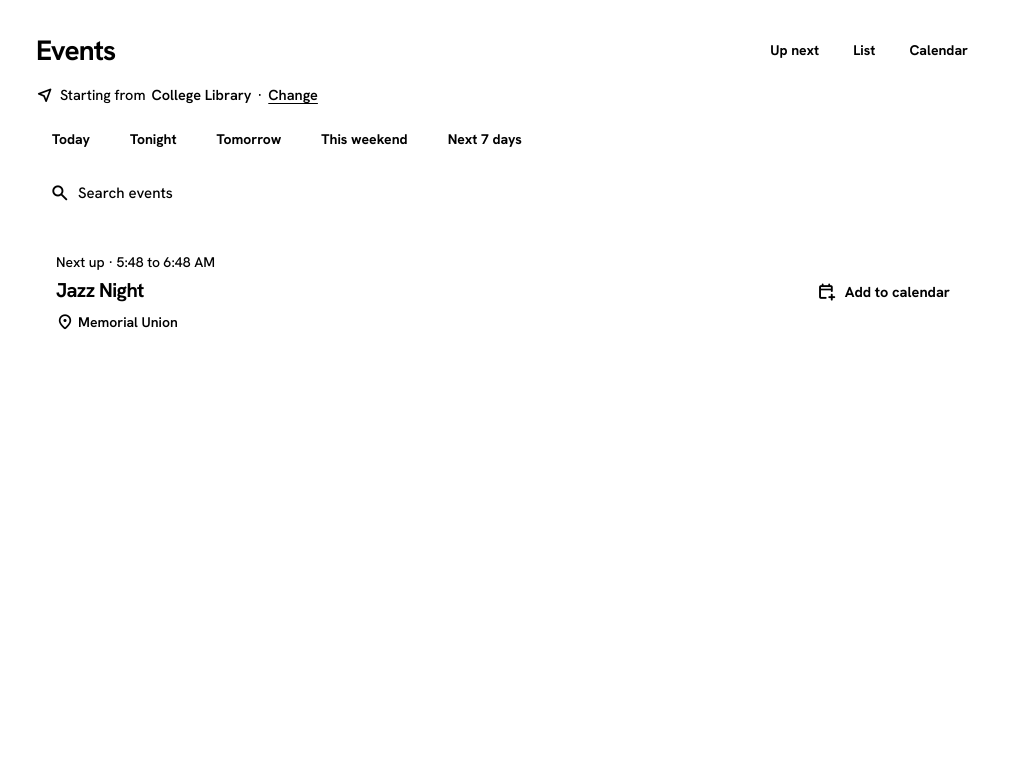
Test: EventsPage › a title opens the event pop-up over the page (?event=), and Close removes it
Click the button "Jazz Night": (100, 290) [56,279,144,302]
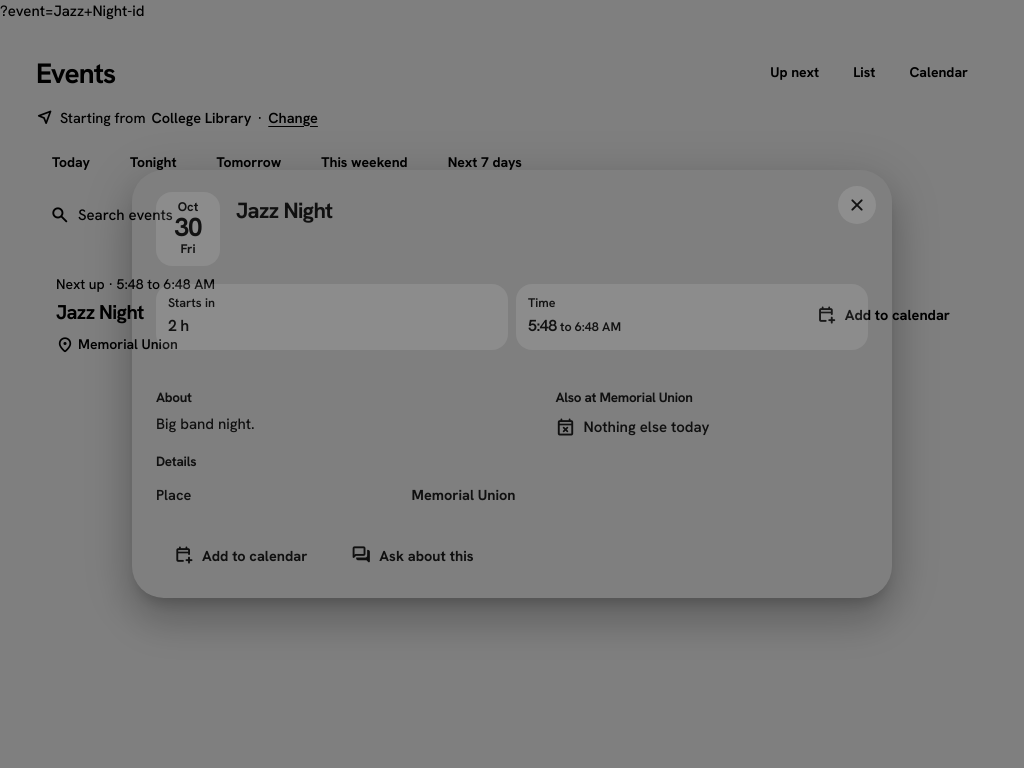
Expected: the text "Big band night." is shown, [156,414,255,434]
Click the button named "Close": (857, 205) [838,186,876,224]
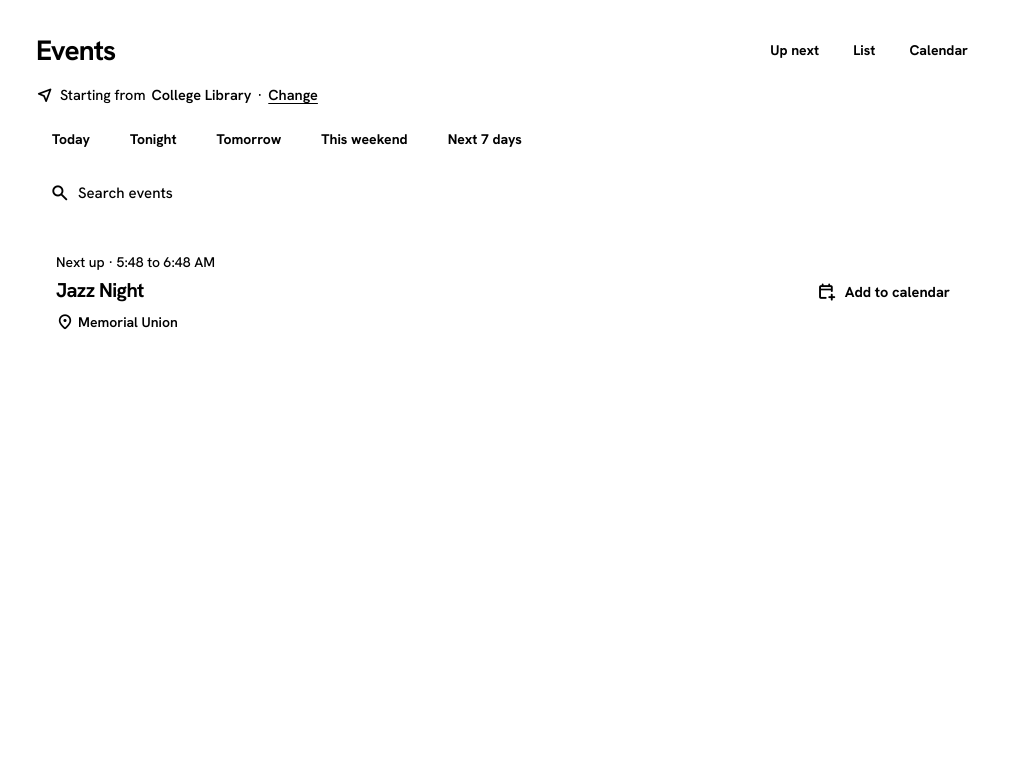
Expected: the dialog is gone
